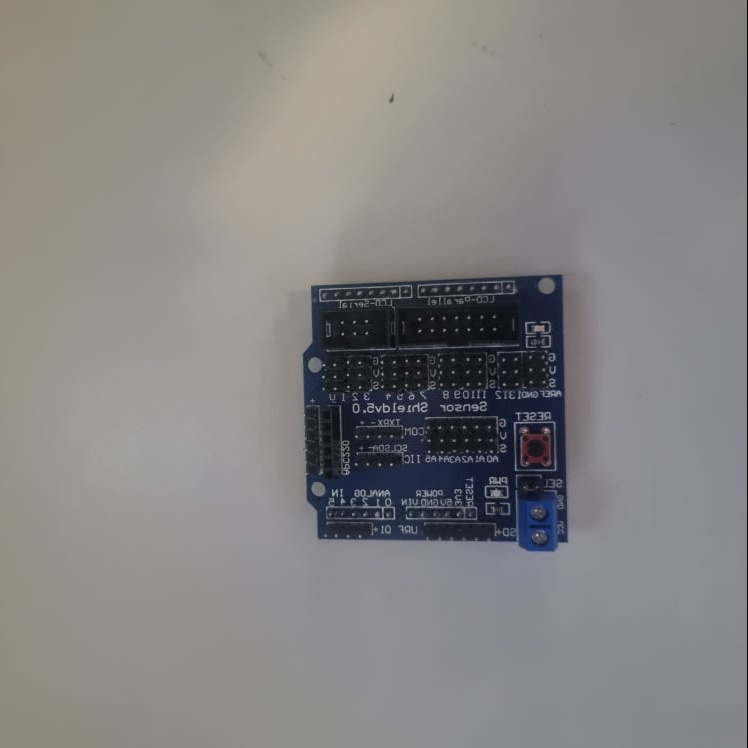5V EXPANSION: (305, 279, 572, 554)
